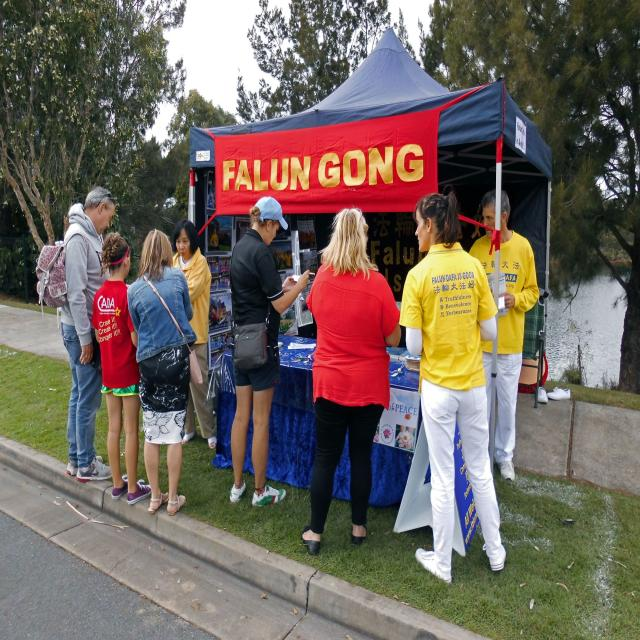body: (396, 190, 506, 583), (297, 208, 403, 558), (227, 195, 310, 510), (35, 185, 118, 483), (124, 229, 204, 518), (464, 188, 542, 484), (90, 232, 153, 505), (170, 221, 218, 449)
